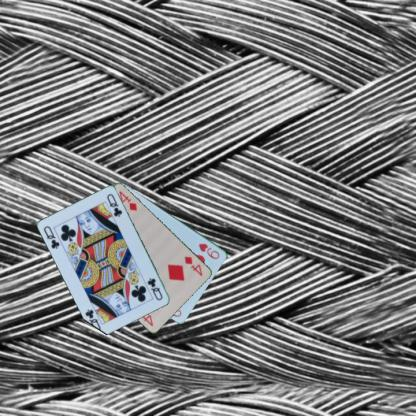4d: (182, 254, 204, 277)
9h: (196, 240, 221, 260)
Qc: (41, 224, 61, 250), (145, 276, 164, 302)
